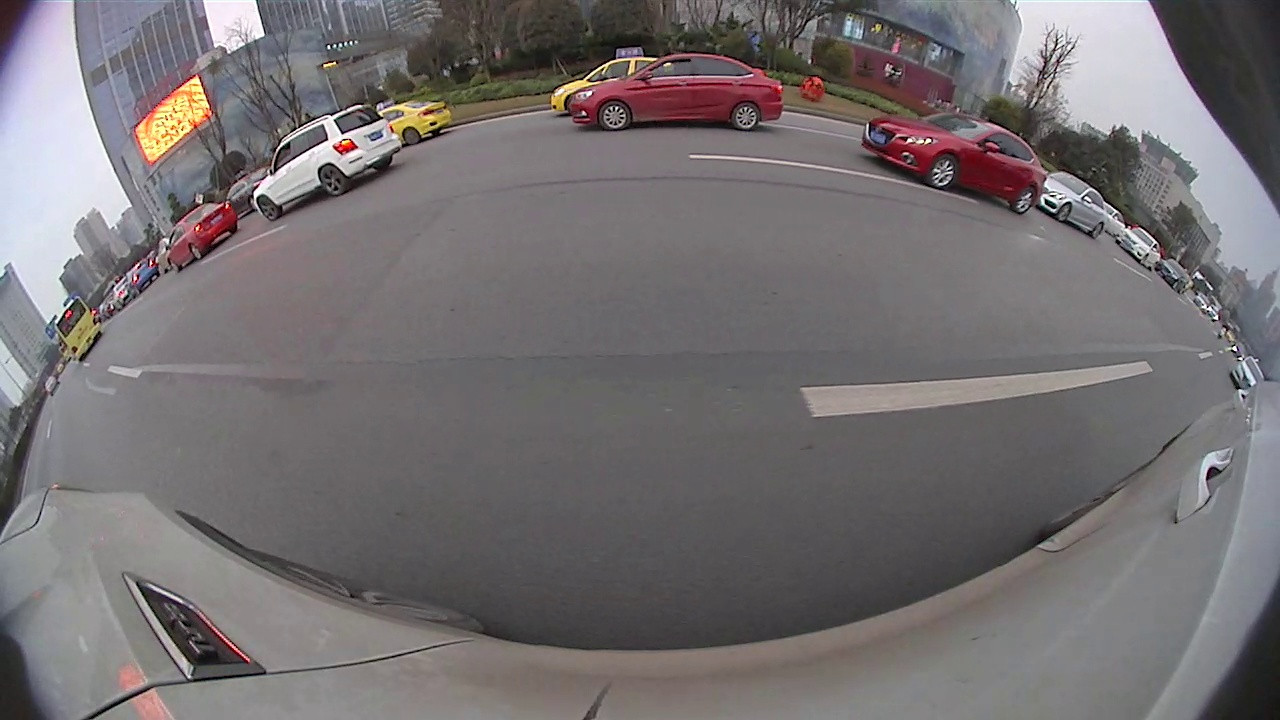bus: (50, 295, 103, 360)
car: (864, 112, 1046, 214), (255, 103, 404, 222), (569, 50, 785, 129), (549, 46, 667, 120), (164, 199, 238, 275), (1035, 169, 1108, 238), (378, 95, 453, 144), (222, 164, 276, 221)
front: (927, 152, 960, 194), (595, 100, 632, 135), (256, 192, 287, 225), (1053, 206, 1074, 226), (166, 258, 182, 275)
rear: (319, 163, 352, 196), (731, 100, 763, 133), (1007, 188, 1036, 216), (399, 123, 421, 148), (186, 241, 207, 261), (374, 156, 394, 176), (1085, 222, 1104, 241), (225, 218, 240, 238)
